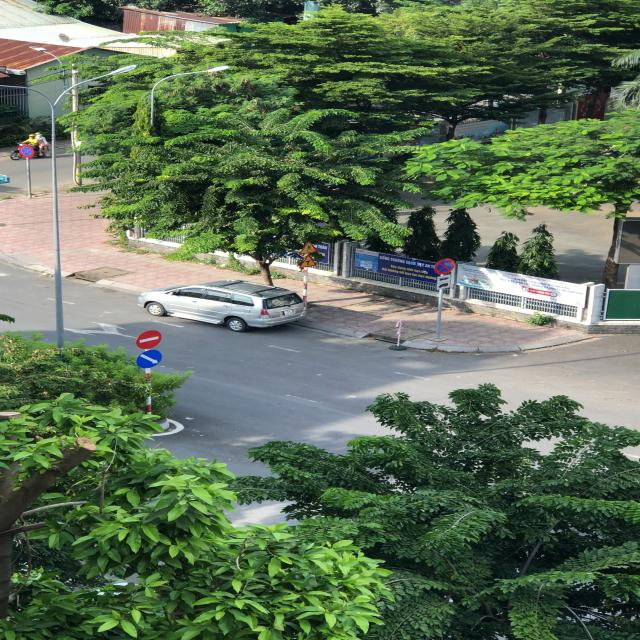Bien bao cam di nguoc chieu: (134, 330, 164, 350)
Bien bao duong giao nhau: (299, 254, 319, 269)
Bien bao duong nguoi di bo cat ngang: (299, 240, 321, 256)
Bien bao huong phai di vong chuong ngai vat: (136, 348, 166, 371)
